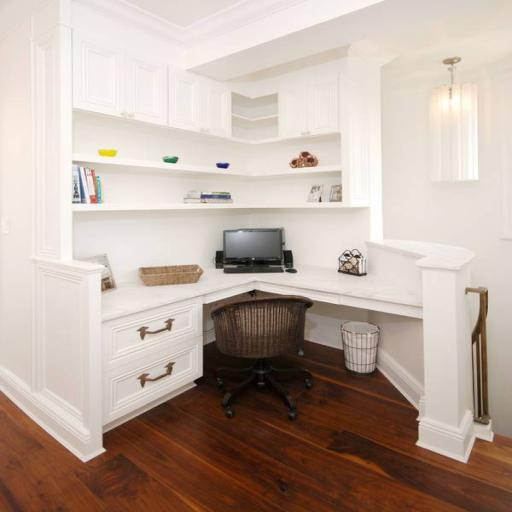chair: (211, 293, 313, 421)
desk: (101, 263, 422, 433)
wall: (73, 208, 424, 407), (379, 59, 512, 437), (0, 0, 34, 415)
